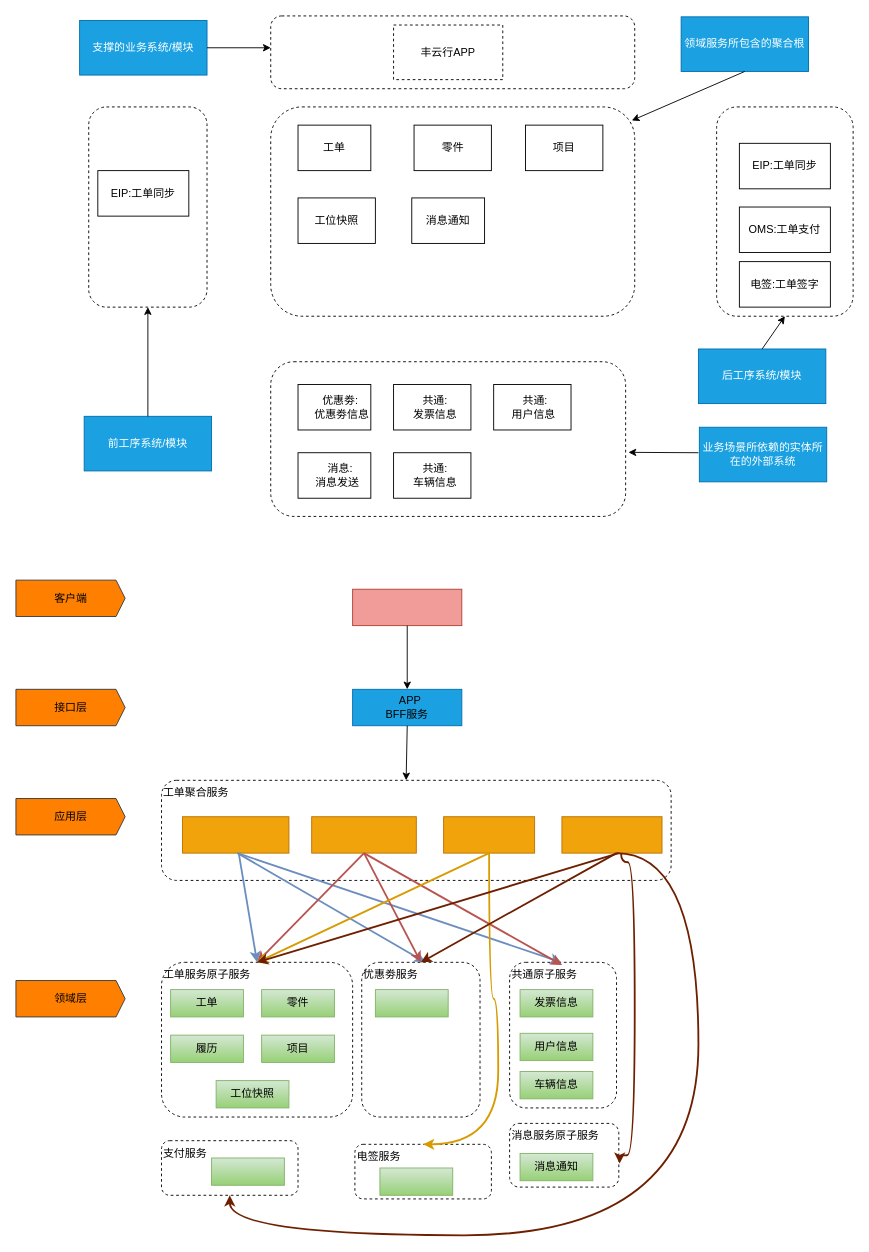
The diagram is 869 pixels wide and 1252 high, and some of its shapes have lost their labels. The centre of each missing label's shape, as x and y in pixels:
APP: (407,607)
优惠劵信息: (411,1003)
工单列表显示编排: (235,834)
工单支付: (247,1171)
工单支付编排: (611,834)
工单签字: (416,1181)
工单签字编排: (489,834)
工单详情显示编排: (363,834)
